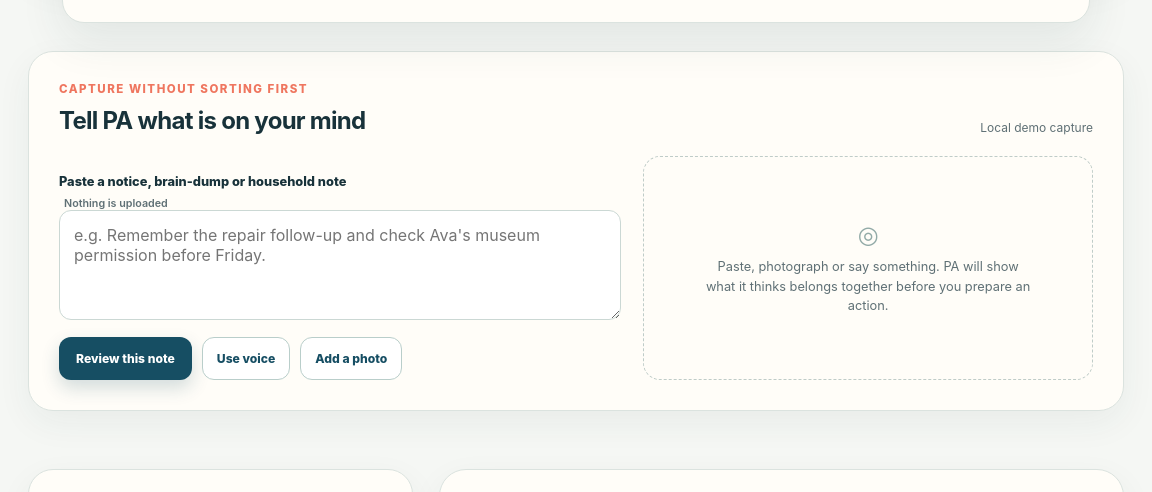
Scenario: manual portal › keeps multiple voice segments together until listening stops
(page scrolled)
Step 1. Click the button "Use voice" → (246, 358), box [202, 337, 290, 380]
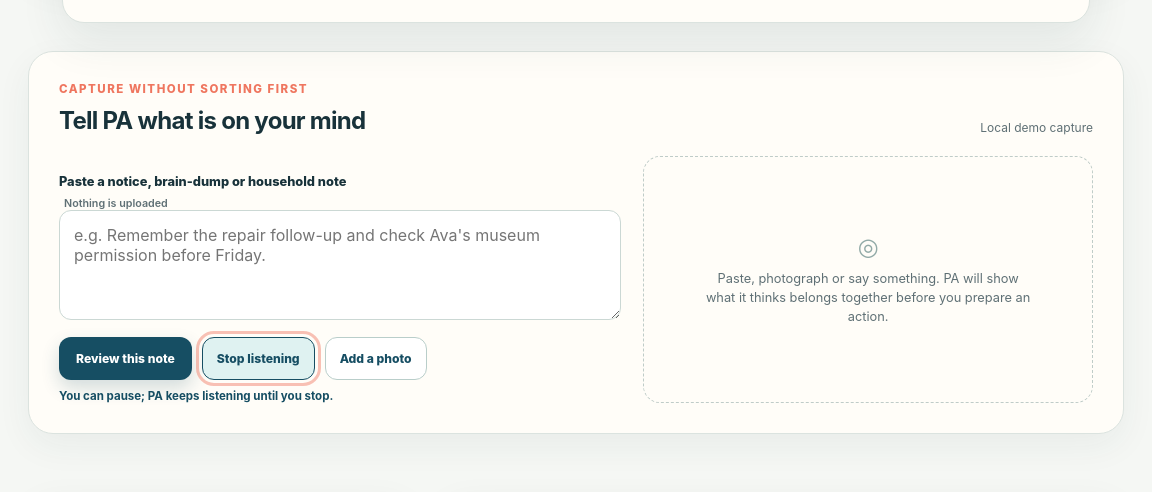
Result: the button "Stop listening" is shown
Step 2. Click the button "Stop listening" → (258, 358), box [202, 337, 315, 380]
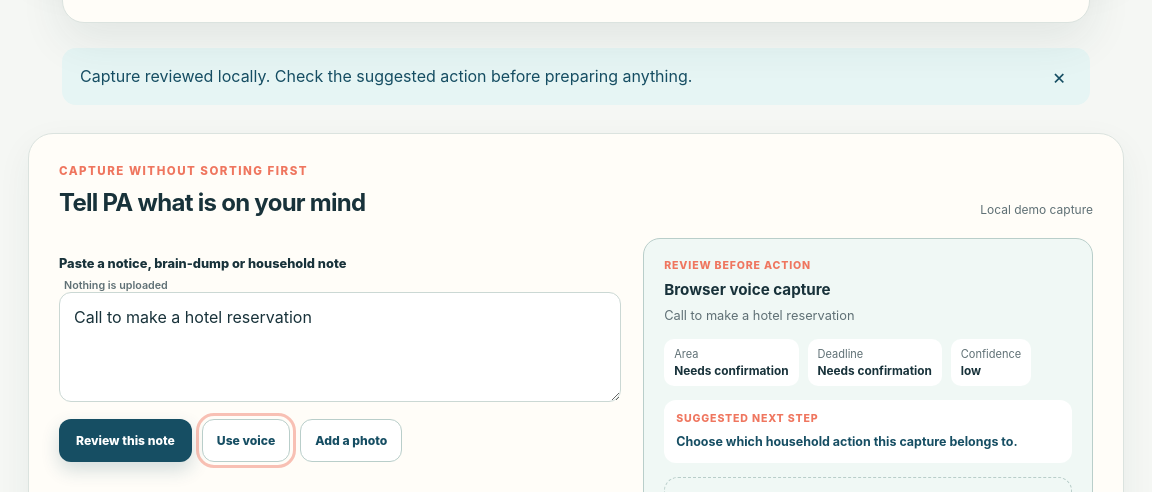
Result: the text box labelled "Paste a notice" holds "Call to make a hotel reservation" at [59, 292, 621, 402]
